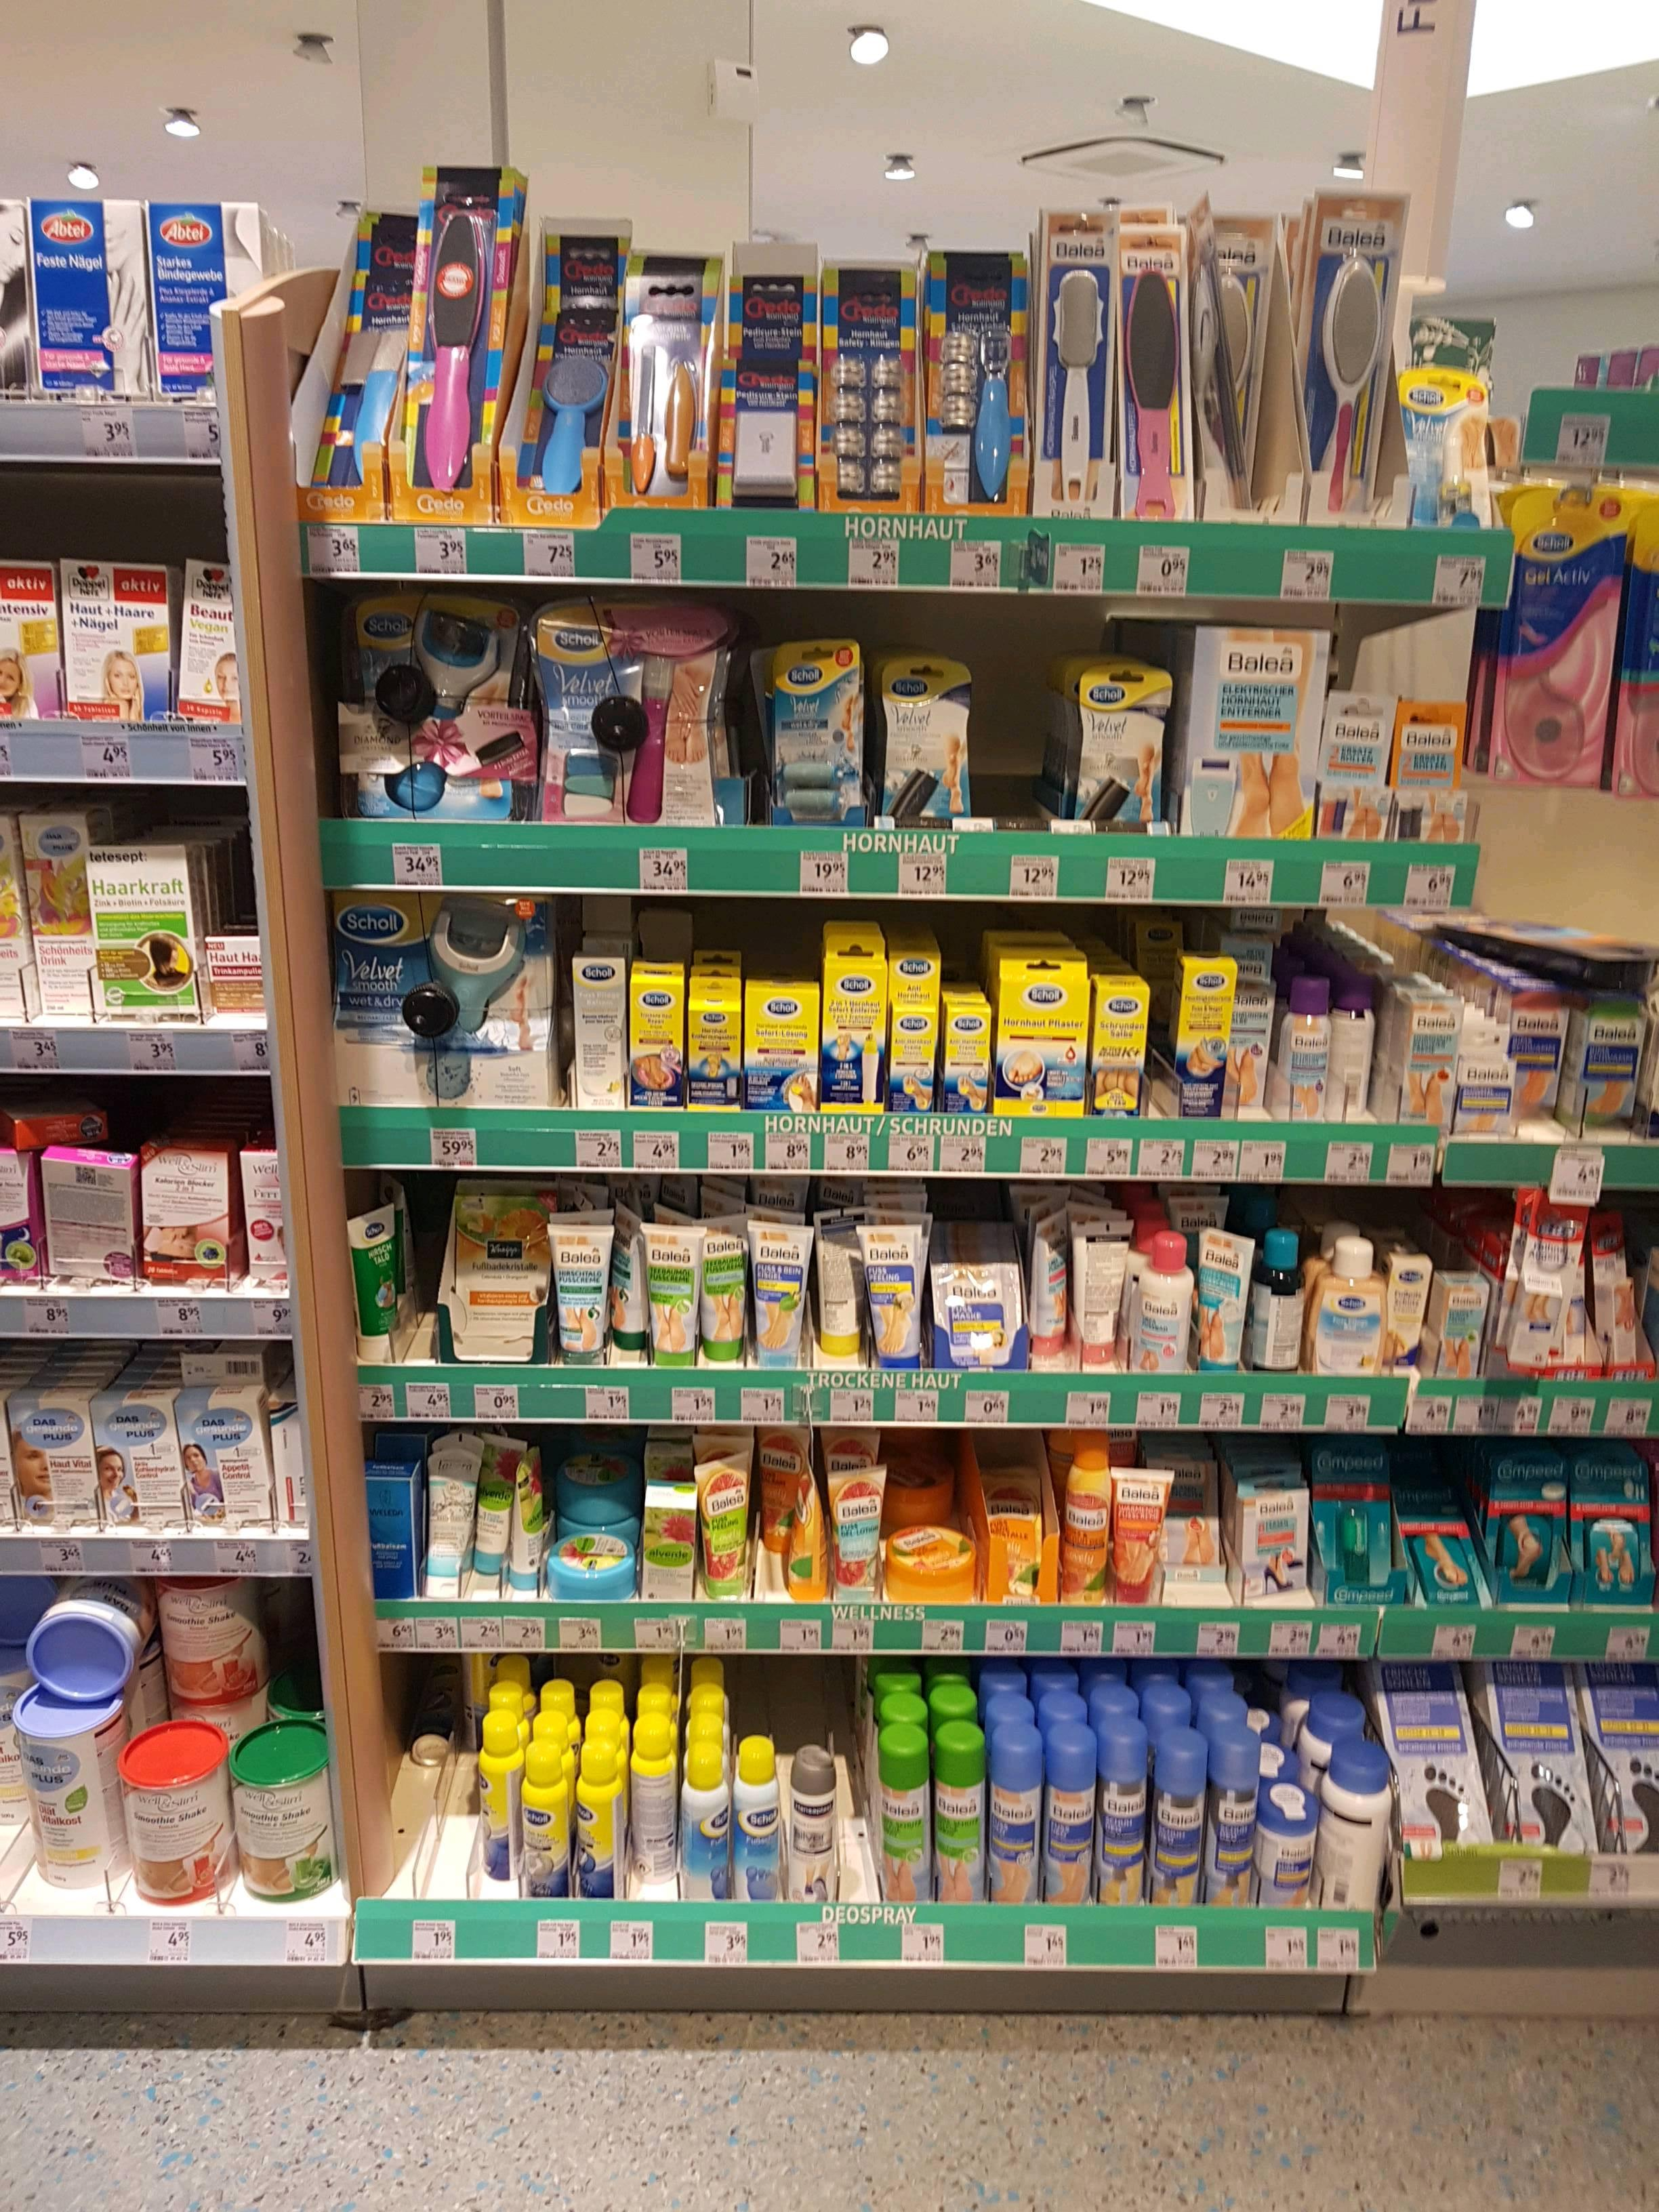empty: (976, 676, 1060, 824), (418, 1705, 476, 1898), (247, 1581, 321, 1730), (739, 1655, 842, 1756), (193, 806, 253, 942)
